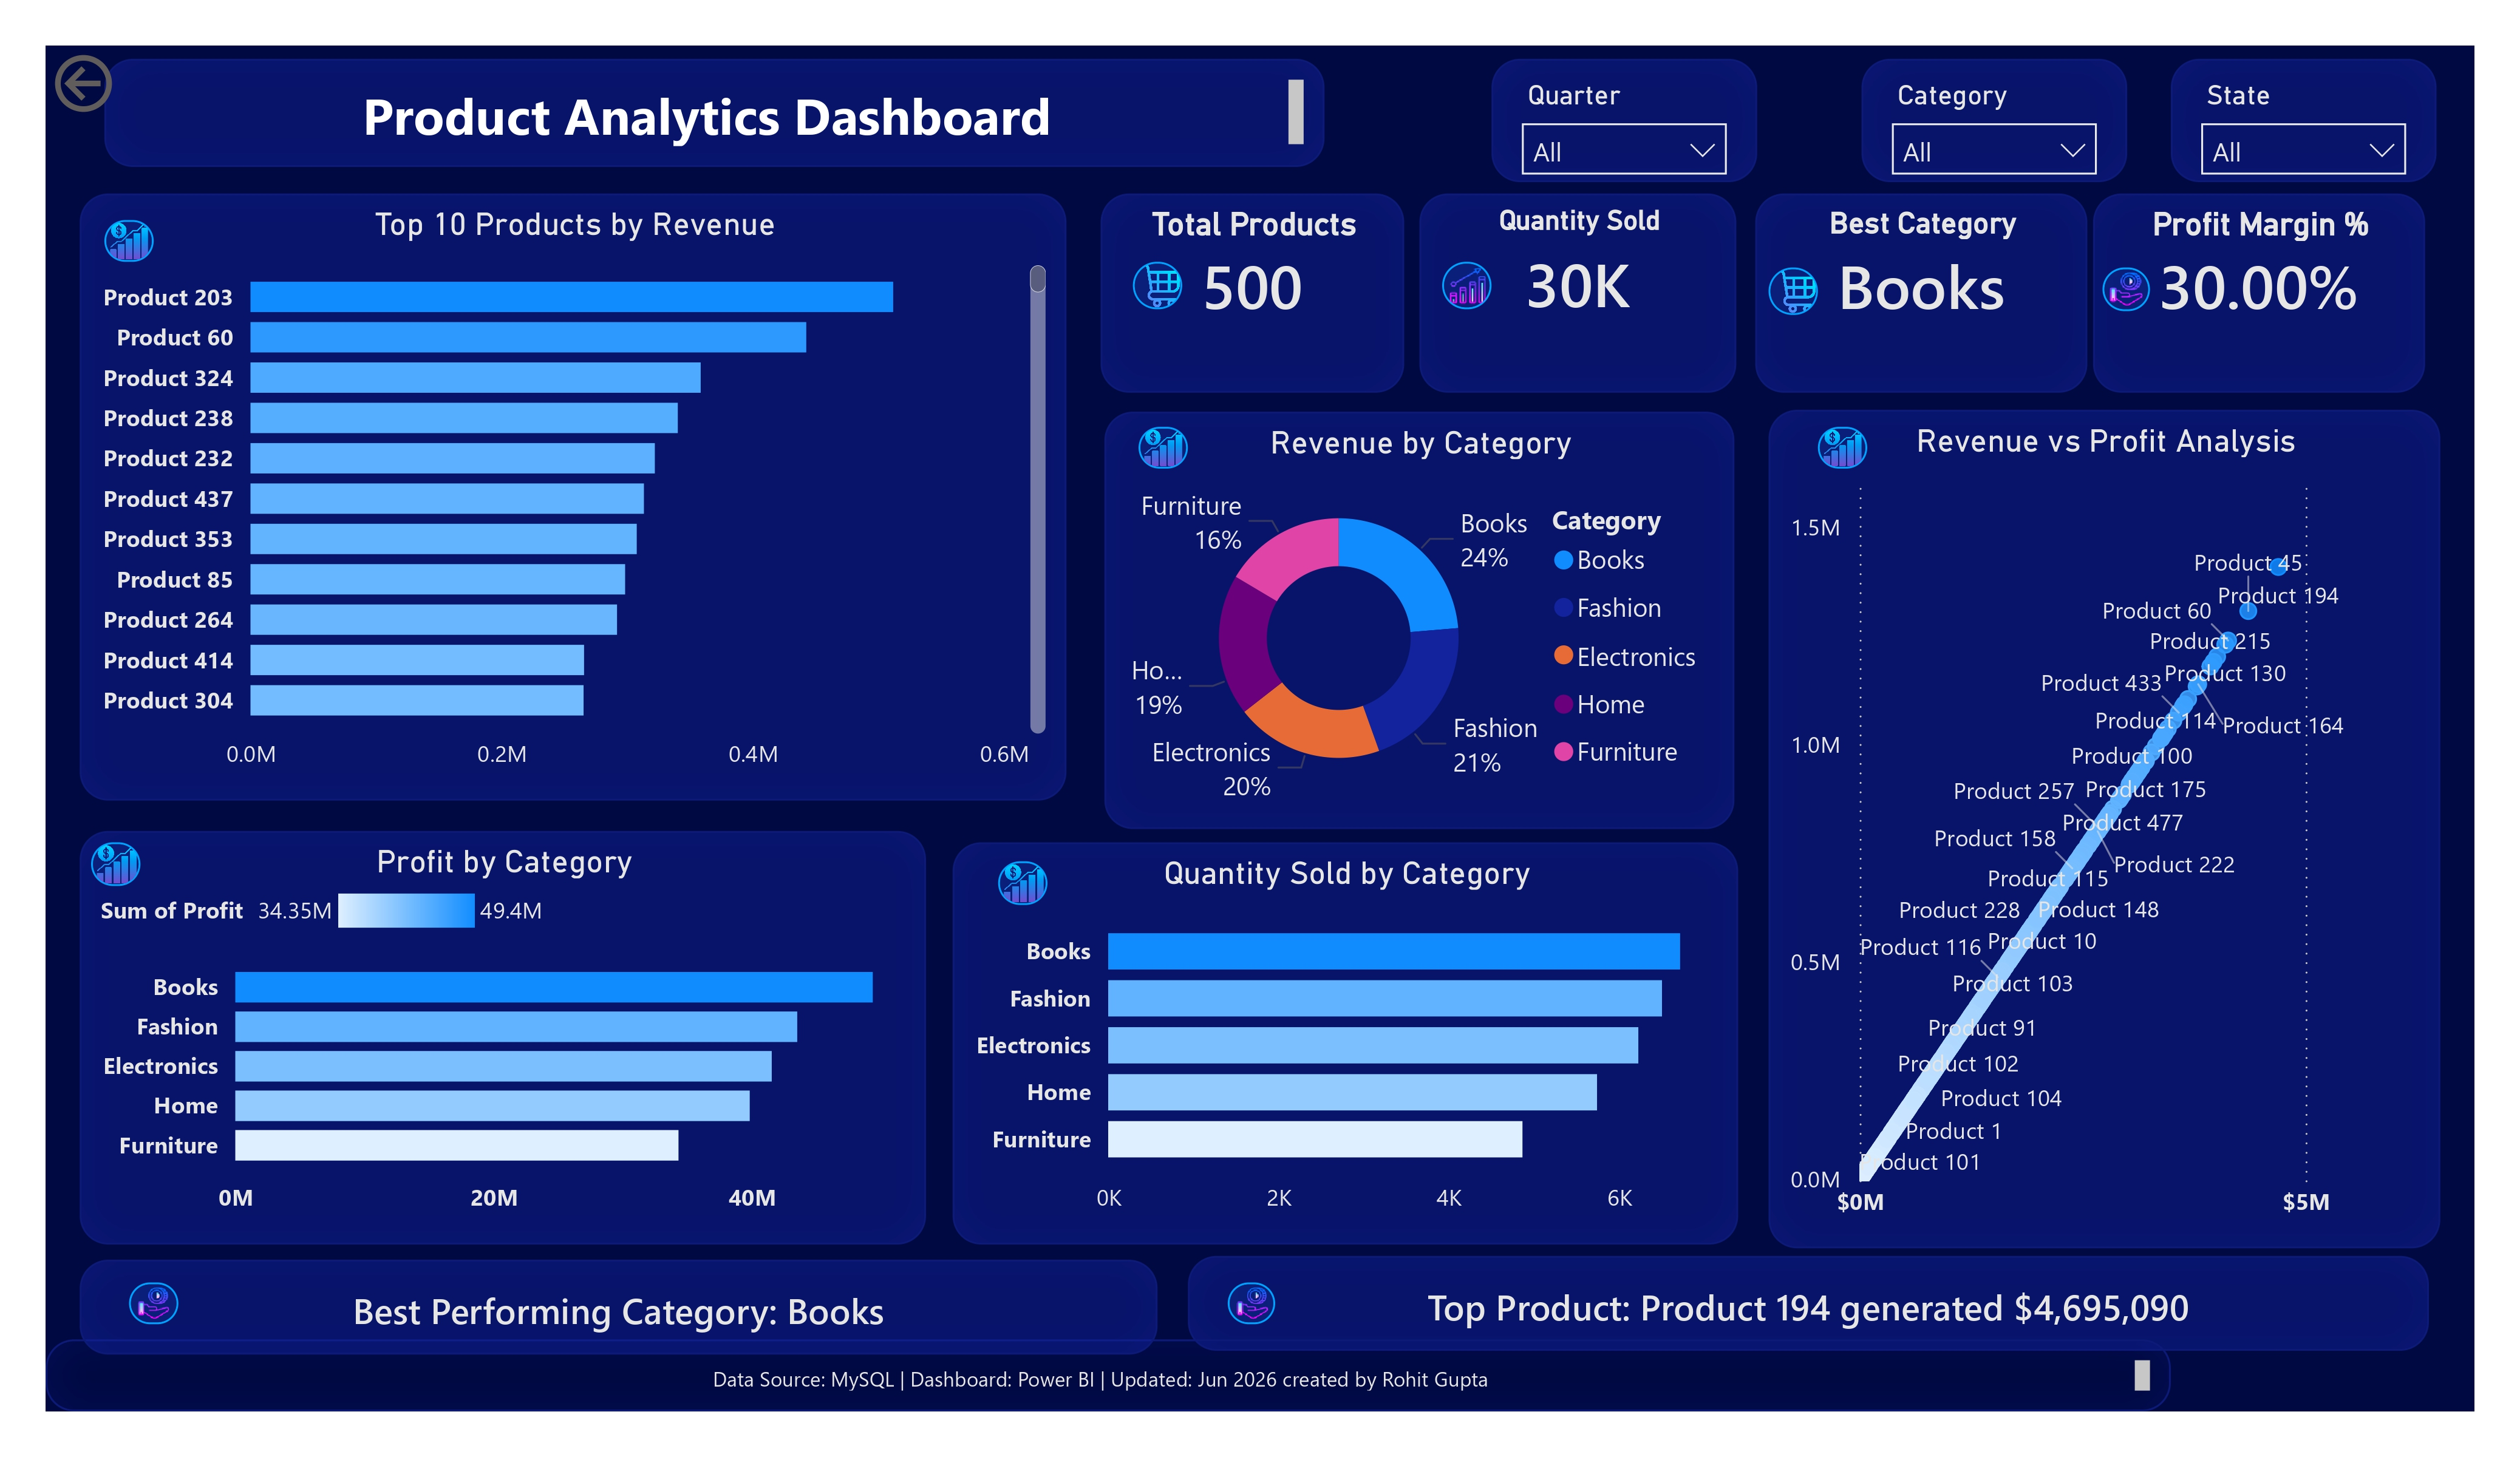

This screenshot's page, from the dashboard's own definition file:
{"tool":"powerbi","page":{"name":"Product-analysis","canvas":[1280,720],"ordinal":2},"visuals":[{"type":"clusteredBarChart","title":"Profit by Category","fields":{"Y":["Sum(OrderDetails.Profit)"],"Category":["Products.Category"]},"box":[18,414,446,218],"z":0},{"type":"barChart","title":"Quantity Sold by Category","fields":{"Category":["Products.Category"],"Y":["Sum(OrderDetails.Quantity)"]},"box":[478,420,414,212],"z":1000},{"type":"donutChart","title":"Revenue by Category","fields":{"Y":["Sum(OrderDetails.Revenue)"],"Category":["Products.Category"]},"box":[557.5,192.5,332.5,220],"z":2000},{"type":"clusteredBarChart","title":"Top 10 Products by Revenue","fields":{"Y":["All Measures.Revenue"],"Category":["Products.ProductName"]},"box":[18.3,78.3,520,320],"z":3000},{"type":"slicer","fields":{"Values":["Products.Category"]},"box":[956.7,6.7,140,65],"z":4000},{"type":"slicer","fields":{"Values":["Customers.State"]},"box":[1120,6.7,140,65],"z":5000},{"type":"textbox","box":[31.4,7.1,642.9,57.1],"z":6000},{"type":"slicer","fields":{"Values":["DateTable.Quarter"]},"box":[761.7,6.7,140,65],"z":7000},{"type":"cardVisual","title":"Best Category","fields":{"Data":["Products.Best Category"]},"box":[900.7,78.3,175,105],"z":8000,"group":"g1"},{"type":"cardVisual","title":"Profit Margin %","fields":{"Data":["Products.Profit Margin %"]},"box":[1079,78.3,175,105],"z":8000,"group":"g4"},{"type":"cardVisual","fields":{"Data":["Products.Top Product Insight"]},"box":[602,638,654,50],"z":8000},{"type":"actionButton","box":[0,0,100,40],"z":9000},{"type":"cardVisual","title":"Total Products","fields":{"Data":["Products.Total Products"]},"box":[555.7,78.3,160,105],"z":9000,"group":"g2"},{"type":"cardVisual","title":"Quantity Sold","fields":{"Data":["Sum(OrderDetails.Quantity)"]},"box":[724,78.3,166.7,105],"z":9000,"group":"g3"},{"type":"textbox","box":[0,681.7,1120,38.3],"z":10000},{"type":"group","id":"g1","title":"Group 2","box":[900.7,78.3,175,105],"z":11000},{"type":"group","id":"g2","title":"Group 3","box":[555.7,78.3,160,105],"z":12000},{"type":"group","id":"g3","title":"Group 3","box":[724,78.3,166.7,105],"z":13000},{"type":"group","id":"g4","title":"Group 2","box":[1079,78.3,175,105],"z":14000},{"type":"scatterChart","title":"Revenue vs Profit Analysis","fields":{"X":["Sum(OrderDetails.Revenue)"],"Y":["Sum(OrderDetails.Profit)"],"Category":["Products.ProductName"]},"box":[908,192,354,442],"z":15000},{"type":"cardVisual","fields":{"Data":["Products.Category Insight"]},"box":[18,640,568,50],"z":16000},{"type":"image","box":[573,114,26,25],"z":17000},{"type":"image","box":[31,92,26,22],"z":18000},{"type":"image","box":[736,114,26,25],"z":19000},{"type":"image","box":[576,201,26,22],"z":20000},{"type":"image","box":[934.2,200.8,25.8,22.5],"z":21000},{"type":"image","box":[501.7,430,25.8,22.5],"z":22000},{"type":"image","box":[908,117,26,25],"z":23000,"group":"g1"},{"type":"image","box":[24.2,420,25.8,22.5],"z":23000},{"type":"image","box":[44.2,651.7,25.8,22.5],"z":24000},{"type":"image","box":[622.5,651.7,25.8,22.5],"z":25000},{"type":"image","box":[1083.6,117.1,25.7,22.9],"z":26000}]}

Visuals, with their boxes on the page's 1280x720 design canvas (x1, y1, x2, y2). These are canvas units, not pixel positions in the 2520x1457 screenshot, which may show the page scaled, cropped or inside an application window:
"Profit by Category" clusteredBarChart: bbox=[18, 414, 464, 632]
"Quantity Sold by Category" barChart: bbox=[478, 420, 892, 632]
"Revenue by Category" donutChart: bbox=[558, 192, 890, 412]
"Top 10 Products by Revenue" clusteredBarChart: bbox=[18, 78, 538, 398]
slicer - Products.Category: bbox=[957, 7, 1097, 72]
slicer - Customers.State: bbox=[1120, 7, 1260, 72]
textbox: bbox=[31, 7, 674, 64]
slicer - DateTable.Quarter: bbox=[762, 7, 902, 72]
"Best Category" cardVisual: bbox=[901, 78, 1076, 183]
"Profit Margin %" cardVisual: bbox=[1079, 78, 1254, 183]
cardVisual - Products.Top Product Insight: bbox=[602, 638, 1256, 688]
actionButton: bbox=[0, 0, 100, 40]
"Total Products" cardVisual: bbox=[556, 78, 716, 183]
"Quantity Sold" cardVisual: bbox=[724, 78, 891, 183]
textbox: bbox=[0, 682, 1120, 720]
"Group 2" group: bbox=[901, 78, 1076, 183]
"Group 3" group: bbox=[556, 78, 716, 183]
"Group 3" group: bbox=[724, 78, 891, 183]
"Group 2" group: bbox=[1079, 78, 1254, 183]
"Revenue vs Profit Analysis" scatterChart: bbox=[908, 192, 1262, 634]
cardVisual - Products.Category Insight: bbox=[18, 640, 586, 690]
image: bbox=[573, 114, 599, 139]
image: bbox=[31, 92, 57, 114]
image: bbox=[736, 114, 762, 139]
image: bbox=[576, 201, 602, 223]
image: bbox=[934, 201, 960, 223]
image: bbox=[502, 430, 528, 452]
image: bbox=[908, 117, 934, 142]
image: bbox=[24, 420, 50, 442]
image: bbox=[44, 652, 70, 674]
image: bbox=[622, 652, 648, 674]
image: bbox=[1084, 117, 1109, 140]
